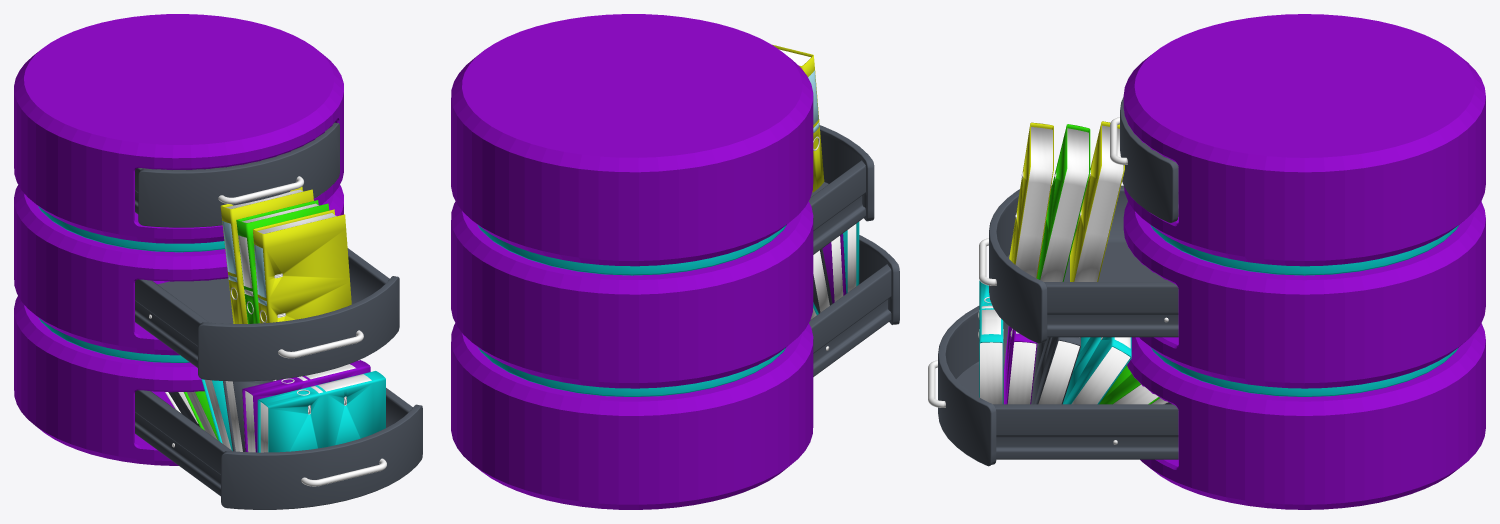
The model's file is DatabaseWeb-transformed.glb.
3 renders of one model, left to right at view 1: azimuth 30°, elevation 25°; view 2: azimuth 150°, elevation 25°; view 3: azimuth 270°, elevation 25°, orthographic. The views are drawn at different scales.
Parts seen in each view (by area): view 1: O, A, C, Основа1_3, Основа1_9, C_2, Основа1, Основа1_2, Основа1_8, Основа1_7, Основа1_6, B (+7 smaller); view 2: O, C, C_2, A, Основа1_3, Основа2_9, Основа1_8, Основа2_7, Основа2_8; view 3: O, C, A, C_2, Основа2_2, Основа2_3, Основа2, Основа1_6, Основа1, Основа1_2, Основа2_7, Основа2_8 (+7 smaller).
Boxes of the visible parts, x1,y1,x2,y2 form: O: (14, 14, 343, 465); A: (138, 122, 422, 509); C: (135, 147, 412, 496); Основа1_3: (253, 209, 351, 323); Основа1_9: (257, 371, 385, 452); C_2: (38, 206, 225, 362); Основа1: (220, 186, 313, 323); Основа1_2: (236, 200, 329, 323); Основа1_8: (242, 360, 370, 452); Основа1_7: (223, 379, 280, 451); Основа1_6: (201, 379, 232, 450); B: (149, 314, 363, 358); O: (451, 14, 813, 509); C: (809, 160, 891, 376); C_2: (478, 225, 786, 396); A: (819, 125, 899, 324); Основа1_3: (772, 44, 824, 192); Основа2_9: (847, 224, 856, 292); Основа1_8: (822, 233, 846, 303); Основа2_7: (813, 250, 829, 312); Основа2_8: (831, 236, 843, 301); O: (1123, 14, 1485, 509); C: (928, 164, 1178, 459); A: (938, 97, 1178, 466); C_2: (1150, 225, 1458, 396); Основа2_2: (1040, 128, 1088, 281); Основа2_3: (1015, 127, 1052, 277); Основа2: (1074, 125, 1123, 281); Основа1_6: (1063, 337, 1131, 404); Основа1: (1070, 121, 1124, 281); Основа1_2: (1037, 124, 1090, 281); Основа2_7: (1038, 340, 1079, 404); Основа2_8: (1007, 342, 1036, 404).
Size of the model in its own units: 1 by 1.07 by 1.54.
